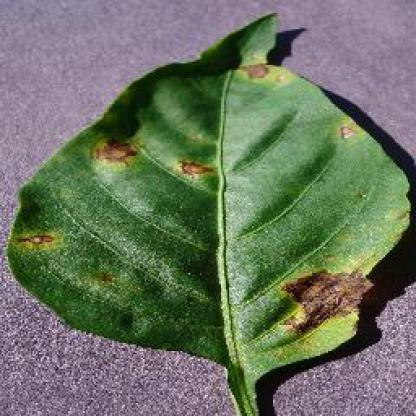bad leaf: (0, 11, 411, 414)
